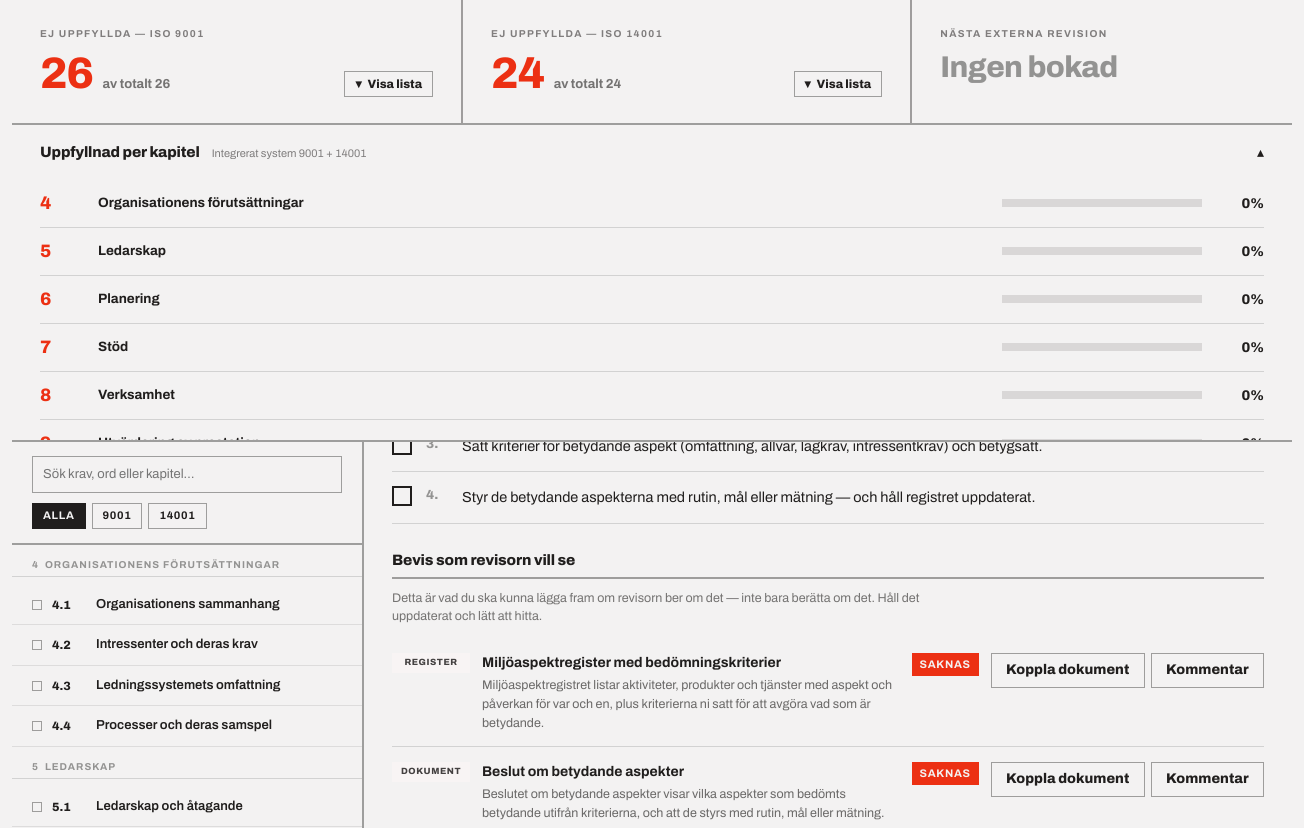
Scenario: linking evidence to documents › shows a message when the register has no documents to link
(page scrolled)
Step 1. Click the 1st button "Koppla dokument" → (1068, 670), box [991,653,1145,688]
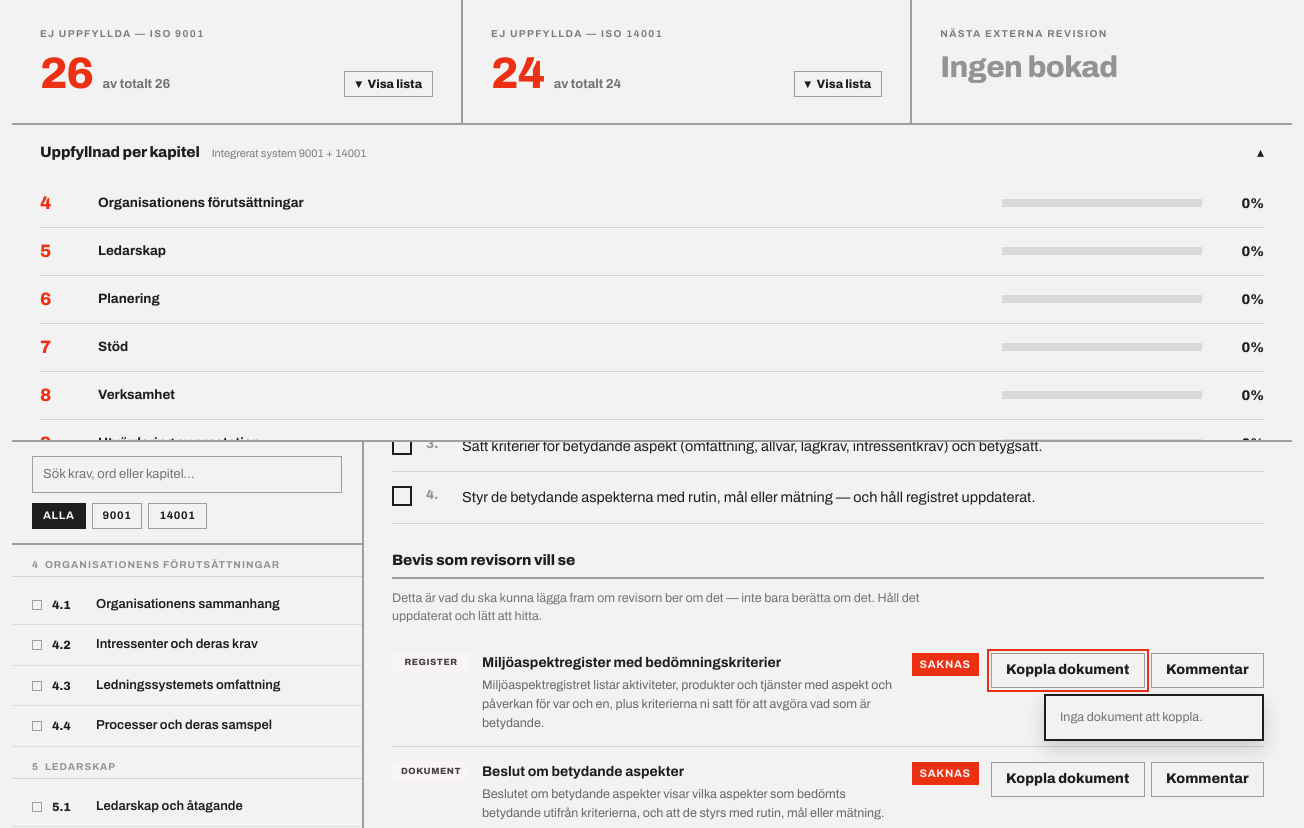
Expected: the text "Inga dokument att koppla." is shown, [1060,710,1203,724]
